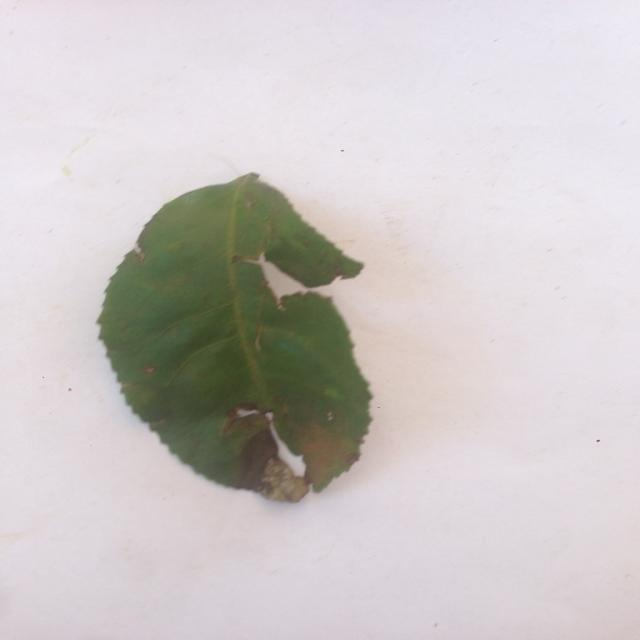Brown Blight: (109, 170, 373, 493)
